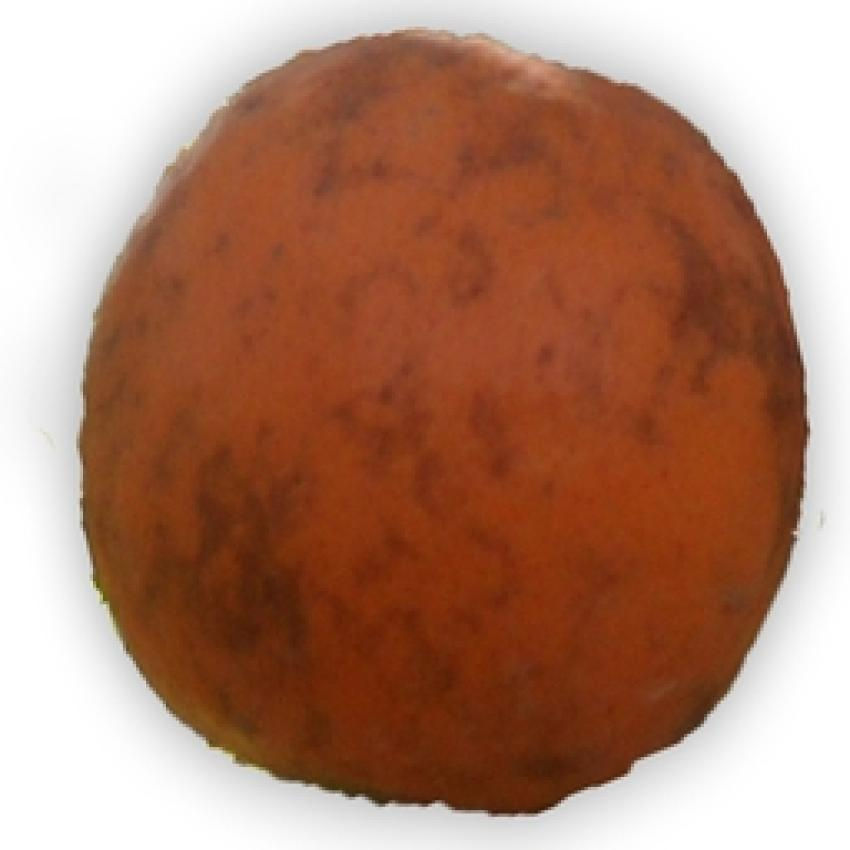Mal estado: (28, 22, 826, 830)
